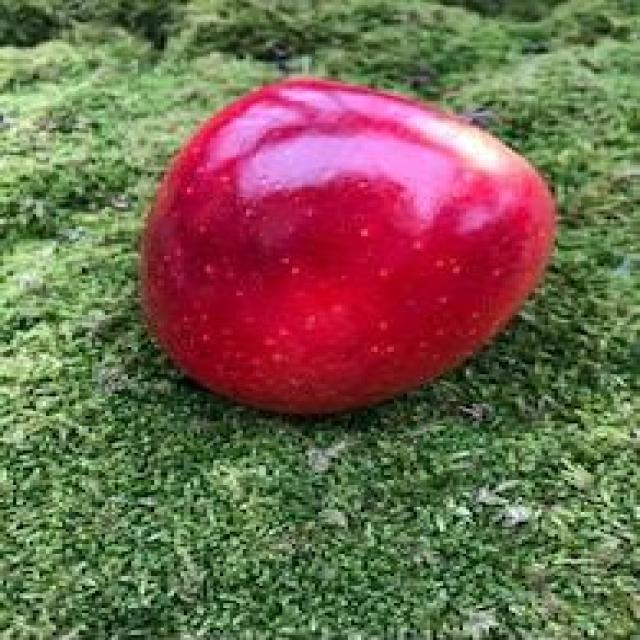apple: (139, 81, 558, 418)
